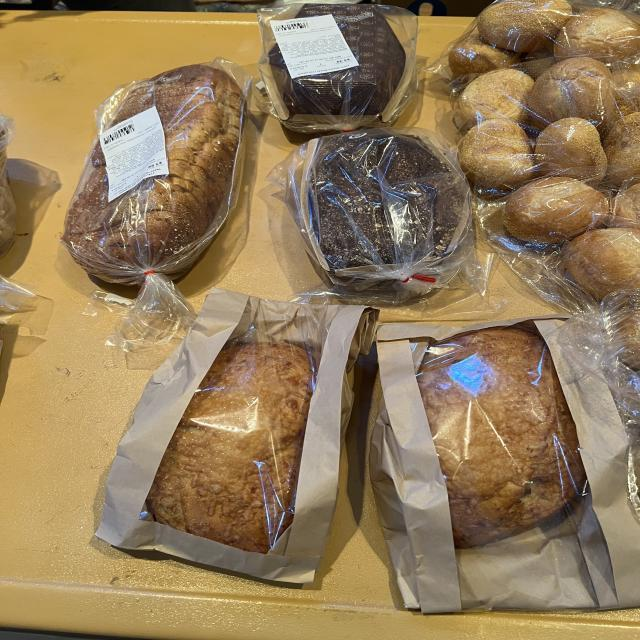Bread: (95, 288, 378, 584), (370, 315, 638, 612), (428, 0, 640, 312), (62, 58, 250, 360), (270, 128, 475, 304), (258, 4, 418, 132), (558, 289, 640, 520)
